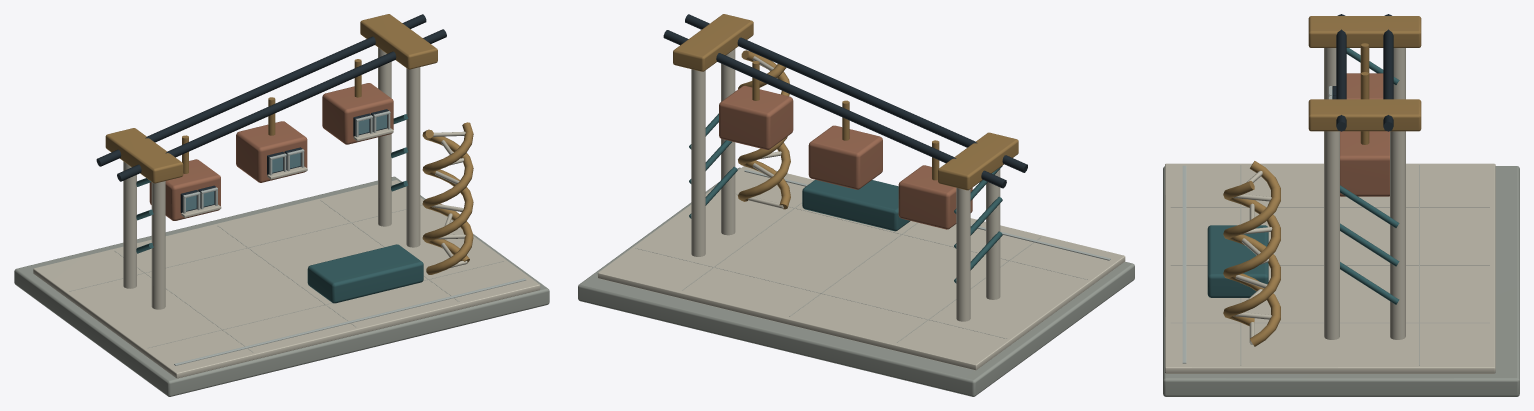
Rendered from idea-1965cf40.glb.
The picture shows the model from 3 angles, left to right: view 1: azimuth 30°, elevation 25°; view 2: azimuth 150°, elevation 25°; view 3: azimuth 270°, elevation 25°; orthographic projection. The views are drawn at different scales.
Parts seen in each view (by area): view 1: Gravity Logistics Railway; view 2: Gravity Logistics Railway; view 3: Gravity Logistics Railway.
Part boxes in pixels (x1,y1,x2,y2): Gravity Logistics Railway: [14, 14, 549, 396]; Gravity Logistics Railway: [578, 14, 1134, 396]; Gravity Logistics Railway: [1163, 14, 1519, 396].
Size of the model in its own units: 5.4 by 3.05 by 3.8.
